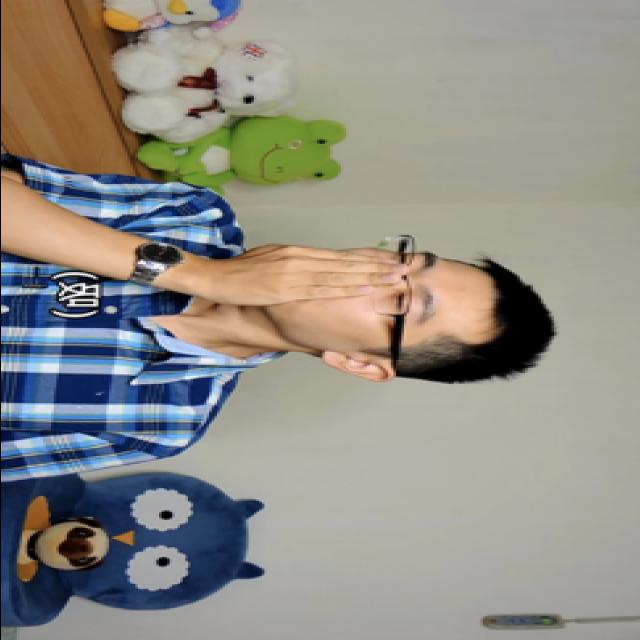mask: (253, 246, 445, 352)
